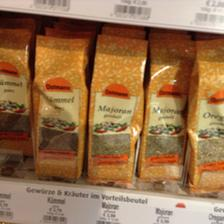Gewuerze: (90, 33, 144, 187), (32, 33, 88, 181), (140, 38, 190, 184), (189, 36, 223, 194), (0, 27, 32, 155)
